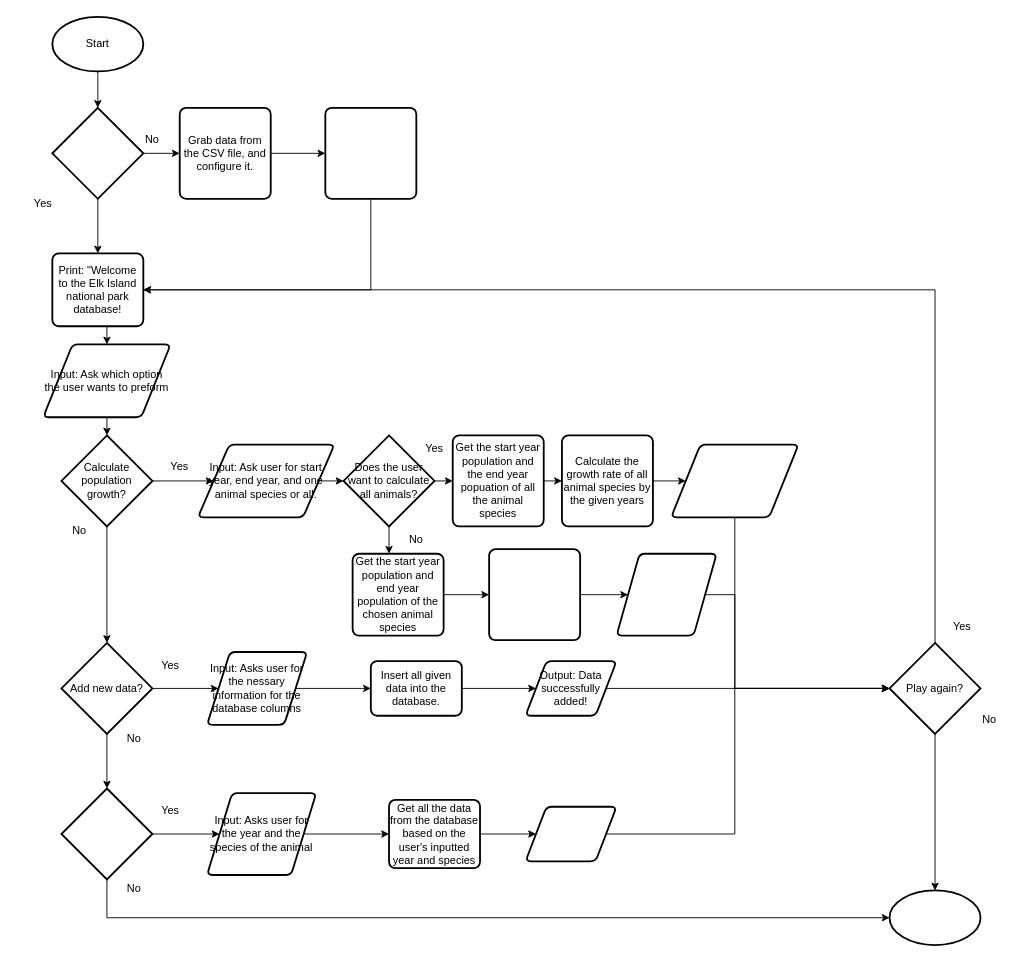
This 1032x961 diagram has some shape labels left out. Here are the shapes that lost their labels. From the top down, the centre of each, then its label:
At (x=97, y=152): "Does the database file already exist?".
At (x=370, y=152): "Create a database, and insert the data into the table".
At (x=734, y=480): "Output: Display the growth rate of all animals.".
At (x=534, y=594): "Calculate the growth rate of the chosen animal species by the given years.".
At (x=666, y=594): "Output: Displays growth rate of chosen animal".
At (x=106, y=833): "View data?".
At (x=570, y=833): "Output: Display the data in a table form".
At (x=934, y=917): "End".
